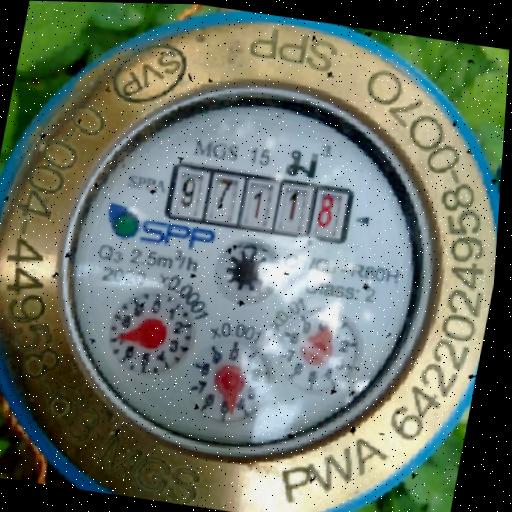1: (244, 184, 272, 229), (279, 191, 306, 233)
7: (209, 178, 236, 222)
8: (314, 195, 343, 236)
9: (174, 174, 203, 217)
border_water_meter_number: (162, 161, 358, 246)
